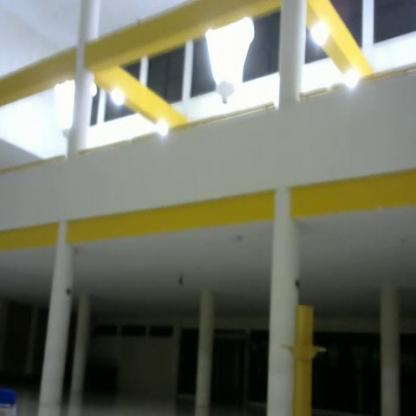pole: (277, 300, 335, 416)
